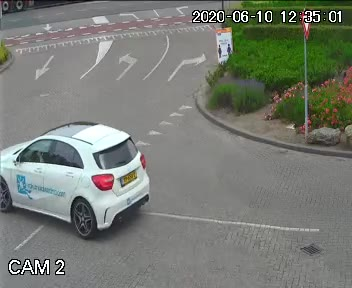car: (0, 126, 166, 235)
